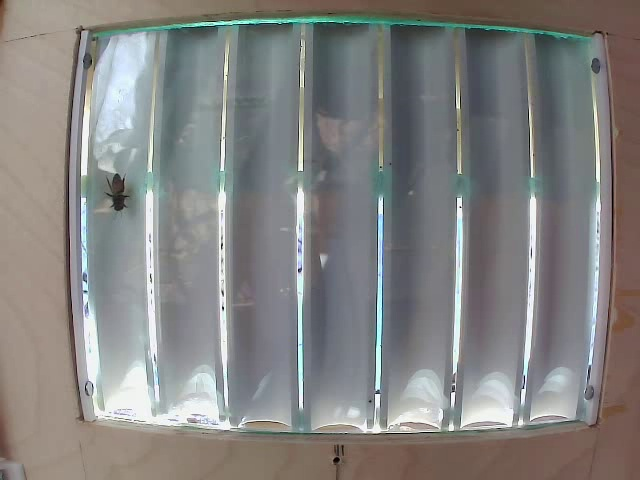bee: (98, 167, 134, 219)
